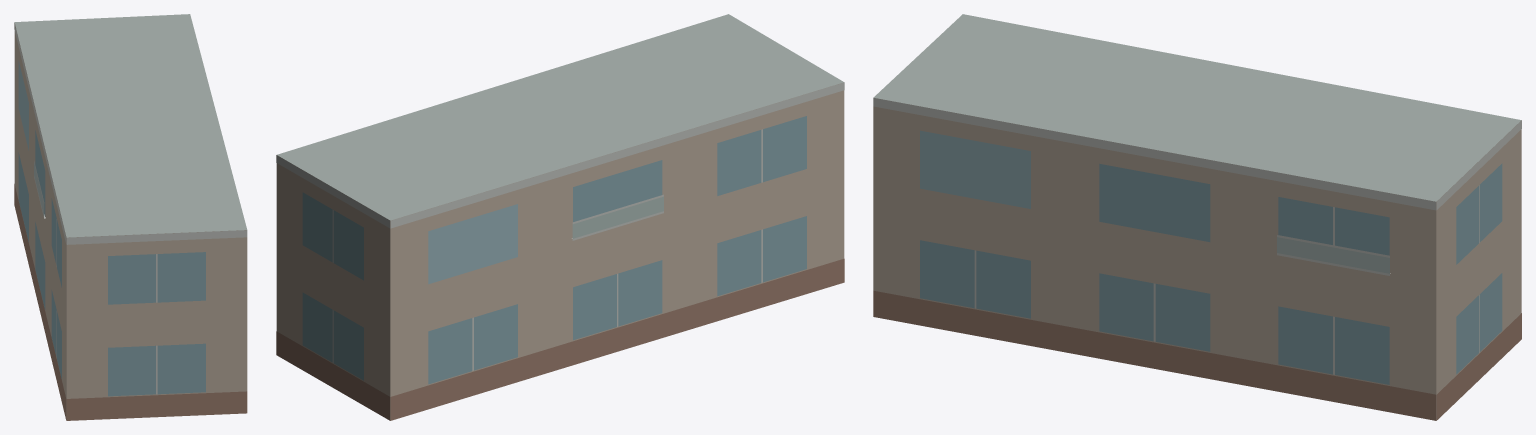
Rendered from survey-upis-32536972.glb.
3 views of the same model, side by side, from view 1: azimuth 30°, elevation 25°; view 2: azimuth 150°, elevation 25°; view 3: azimuth 270°, elevation 25° (orthographic). The views are drawn at different scales.
Visible parts, largest first — view 1: survey-upis-32536972.tmp; view 2: survey-upis-32536972.tmp; view 3: survey-upis-32536972.tmp.
Boxes of the visible parts, <box> form: survey-upis-32536972.tmp: <box>14,14,247,420</box>; survey-upis-32536972.tmp: <box>276,14,844,420</box>; survey-upis-32536972.tmp: <box>873,14,1521,420</box>.
Size of the model in its own units: 11.22 by 6.1 by 16.37.
